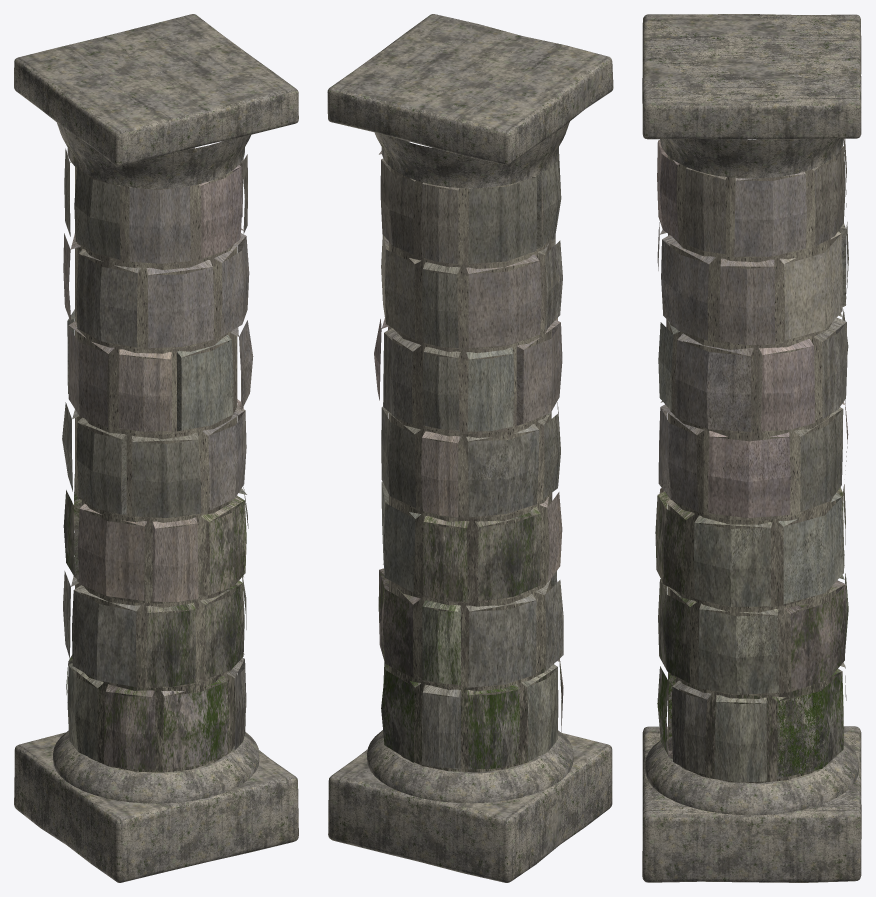
The model's file is pillar.glb.
3 views of the same model, side by side, from view 1: azimuth 30°, elevation 25°; view 2: azimuth 150°, elevation 25°; view 3: azimuth 270°, elevation 25° (orthographic). The views are drawn at different scales.
Visible parts, largest first — view 1: pillar; view 2: pillar; view 3: pillar.
Part boxes in pixels (x1,y1,x2,y2): pillar: [14, 14, 298, 882]; pillar: [327, 14, 613, 882]; pillar: [642, 14, 861, 882].
Bounding box in the file's own units: 0.8843 × 3.46 × 0.8829.
3 materials, 3 textured.
